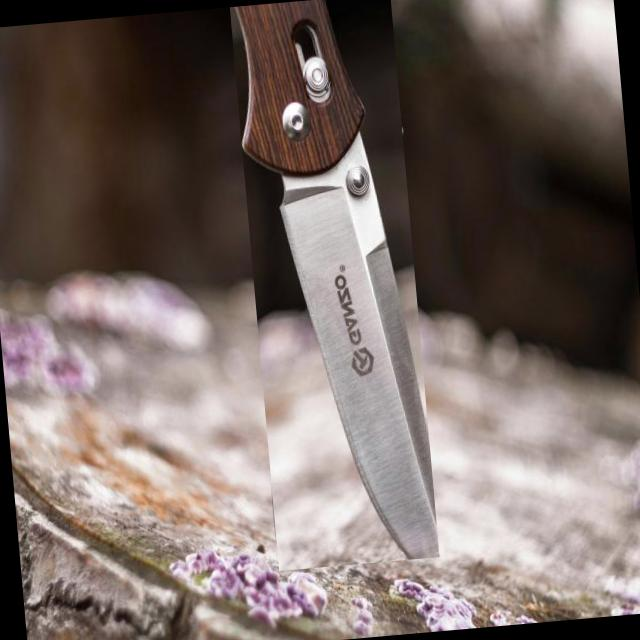Knife: (236, 0, 438, 559)
